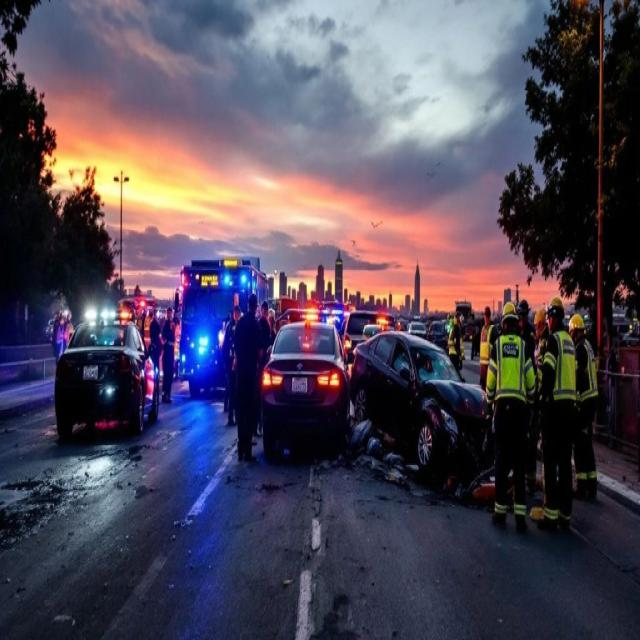Accident: (350, 316, 496, 504)
